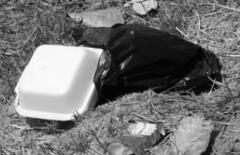general: (13, 43, 104, 121)
plastic: (72, 19, 222, 103)
